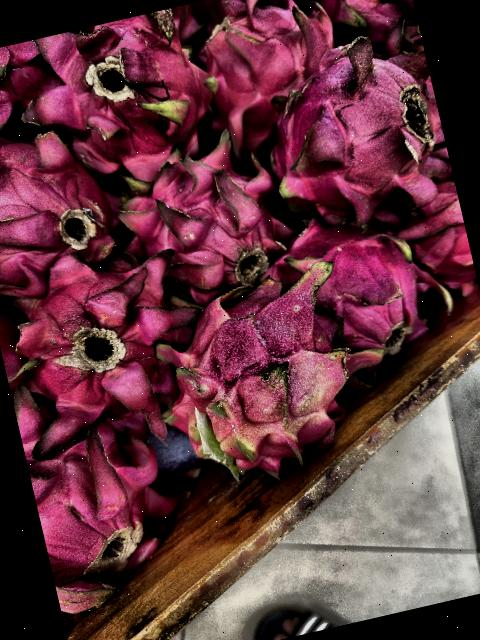buah-naga-belum-matang: (136, 264, 370, 487)
buah-naga-matang: (10, 358, 191, 612), (0, 237, 216, 449), (250, 23, 448, 226), (8, 4, 216, 186), (97, 135, 309, 300), (271, 205, 444, 378), (0, 92, 125, 290), (185, 0, 349, 119), (388, 173, 476, 296), (299, 0, 423, 73), (0, 36, 64, 130)
